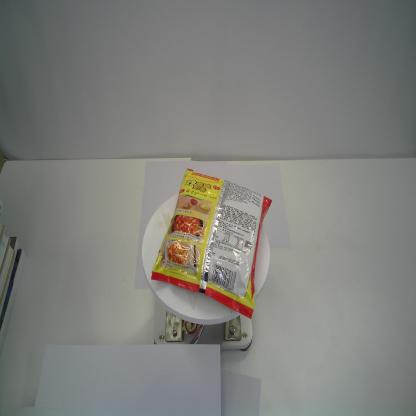Instant Noodles: (149, 167, 272, 320)
